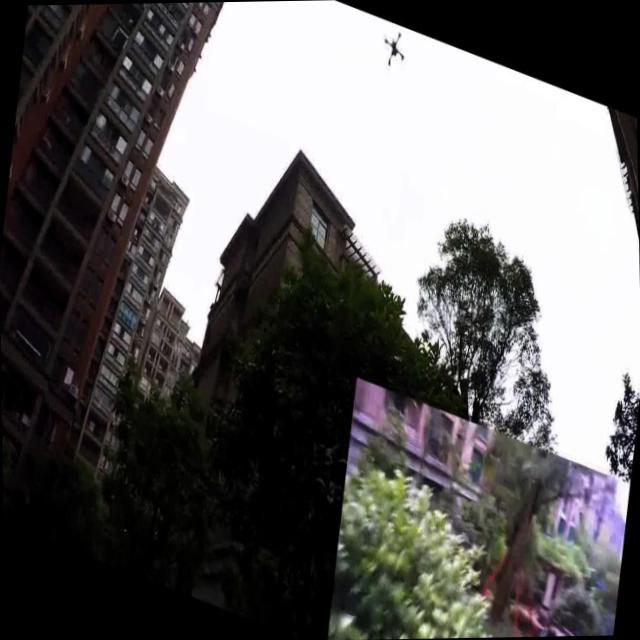drone: (377, 18, 410, 76)
